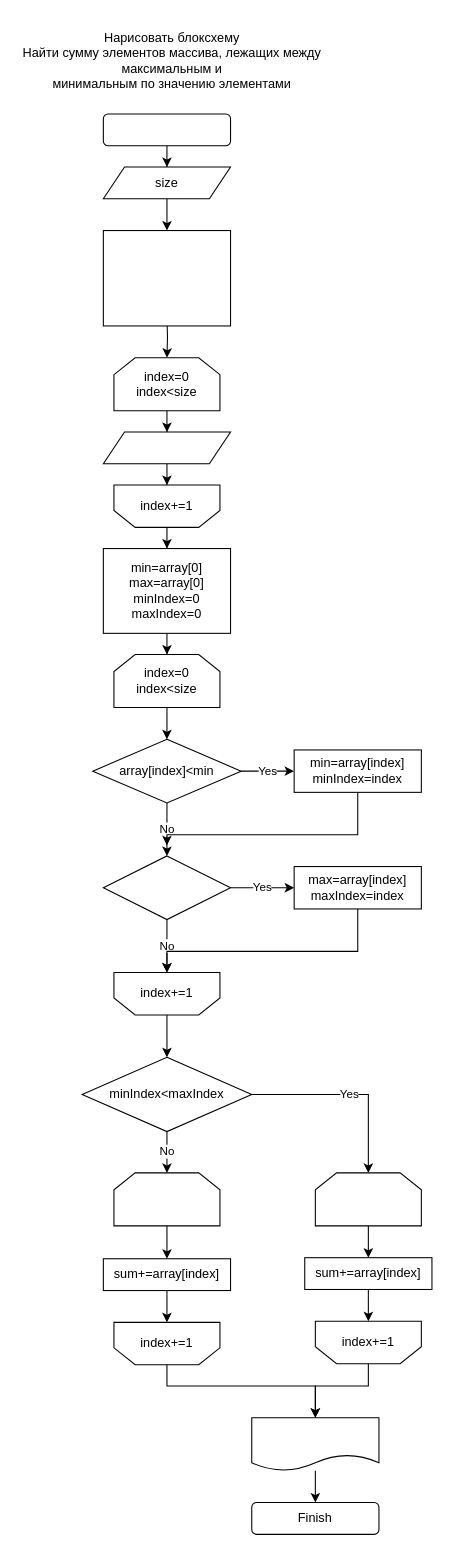
This 450x1553 diagram has some shape labels left out. Each missing label, with the centre of its shape:
array[index]: pixel 166 447
array[index]>max: pixel 166 887
array[size] max min minIndex maxIndex sum=0: pixel 166 277
index=maxIndex index<=minIndex: pixel 166 1199
index=minIndex index<=maxIndex: pixel 367 1199
Start: pixel 166 129
sum: pixel 315 1444
